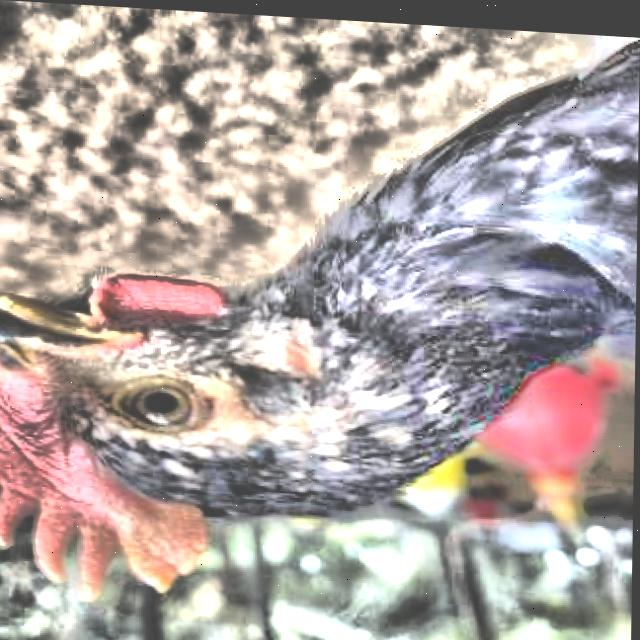Healthy: (86, 364, 231, 447)
